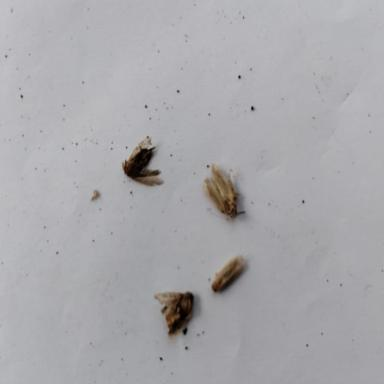pbw: (202, 162, 246, 221), (121, 135, 164, 185), (152, 291, 193, 336), (210, 254, 248, 294)
